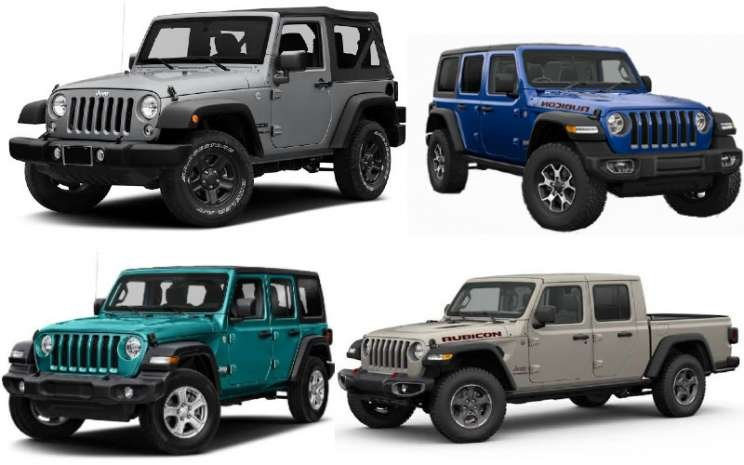mobil: (15, 8, 410, 218), (7, 254, 330, 450), (357, 273, 739, 436), (431, 39, 743, 235)
